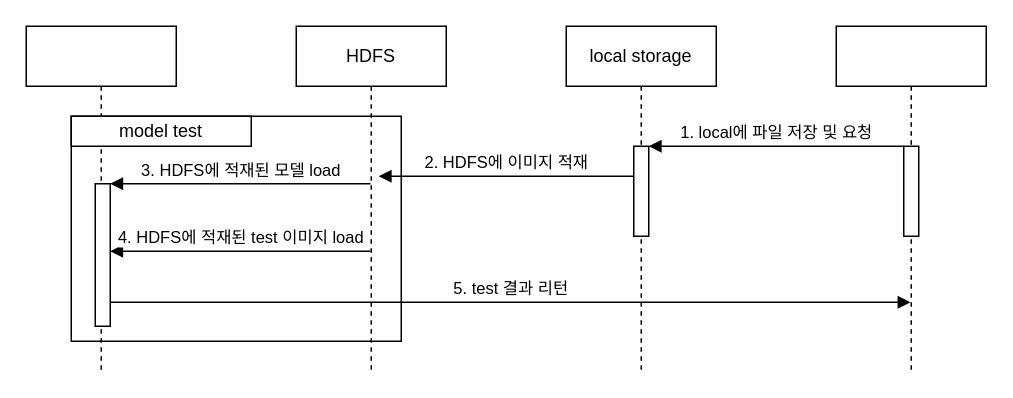
Image size: 1013x398. Some labels were removed from this diagram. Each missing label, with the box of its shape:
Machine Learning: (25, 25, 176, 371)
user: (835, 25, 986, 371)
